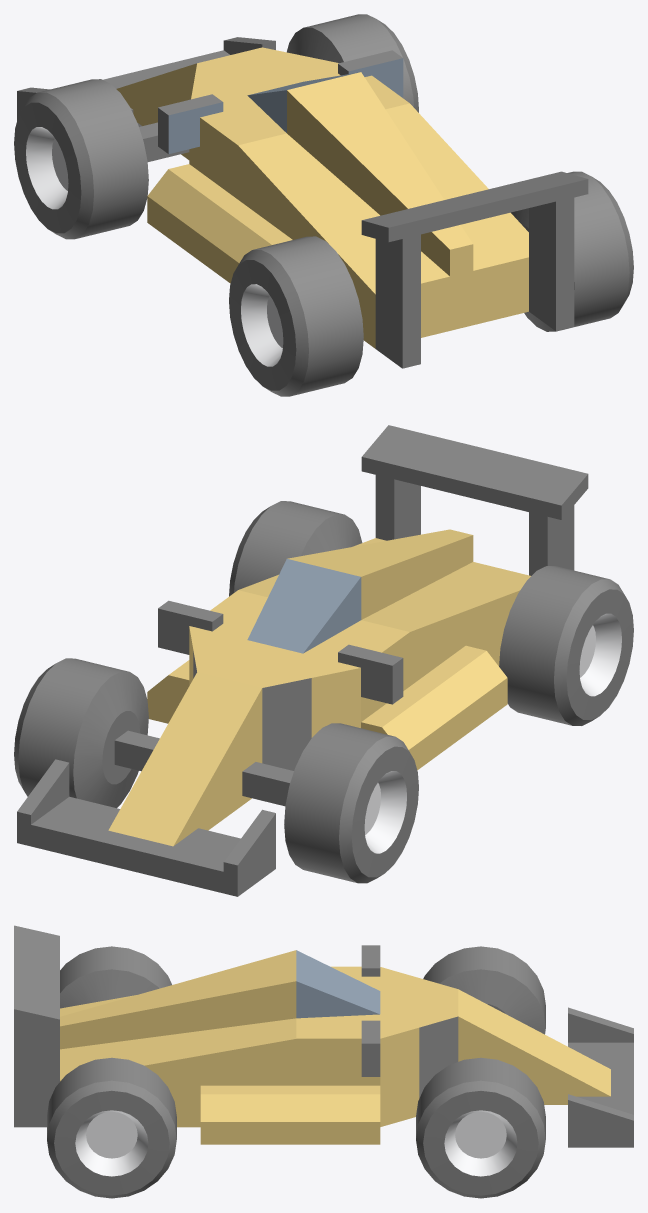
File: raceCarOrange.gltf
3 renders of one model, top to bottom at view 1: azimuth 30°, elevation 25°; view 2: azimuth 150°, elevation 25°; view 3: azimuth 270°, elevation 25°, orthographic. The views are drawn at different scales.
Parts seen in each view (by area): view 1: body, wheelBackLeft, wheelFrontLeft, wheelBackRight, wheelFrontRight; view 2: body, wheelFrontLeft, wheelBackLeft, wheelFrontRight, wheelBackRight; view 3: body, wheelBackRight, wheelFrontRight, wheelFrontLeft, wheelBackLeft.
Part boxes in pixels (bbox=[...]): body: bbox=[17, 37, 588, 368]; wheelBackLeft: bbox=[229, 236, 363, 396]; wheelFrontLeft: bbox=[14, 79, 148, 239]; wheelBackRight: bbox=[511, 171, 633, 331]; wheelFrontRight: bbox=[287, 14, 418, 112]; body: bbox=[17, 425, 588, 896]; wheelFrontLeft: bbox=[284, 723, 418, 883]; wheelBackLeft: bbox=[499, 566, 633, 725]; wheelFrontRight: bbox=[14, 658, 148, 808]; wheelBackRight: bbox=[229, 501, 362, 596]; body: bbox=[14, 925, 633, 1147]; wheelBackRight: bbox=[47, 1057, 176, 1198]; wheelFrontRight: bbox=[416, 1057, 545, 1198]; wheelFrontLeft: bbox=[423, 946, 545, 1034]; wheelBackLeft: bbox=[60, 946, 171, 1008].
Bounding box in the file's own units: 7.29 × 3.97 × 13.46.
